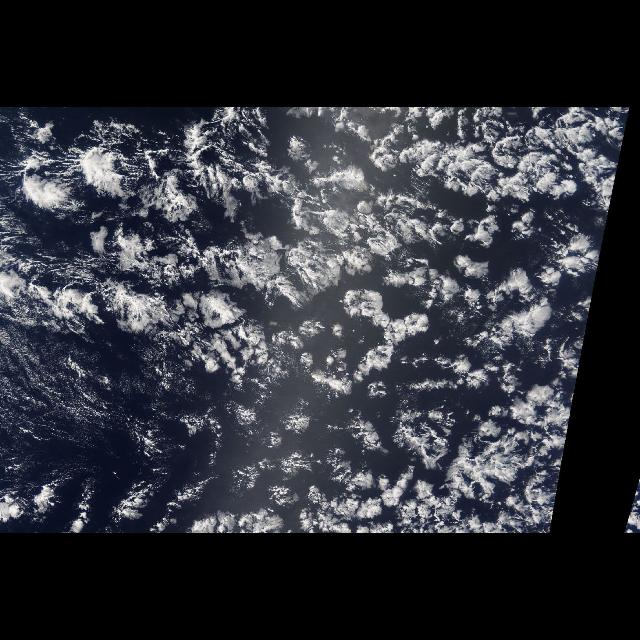Flower: (207, 116, 609, 510)
Gravel: (5, 333, 140, 443)
Sugar: (1, 334, 148, 456)
